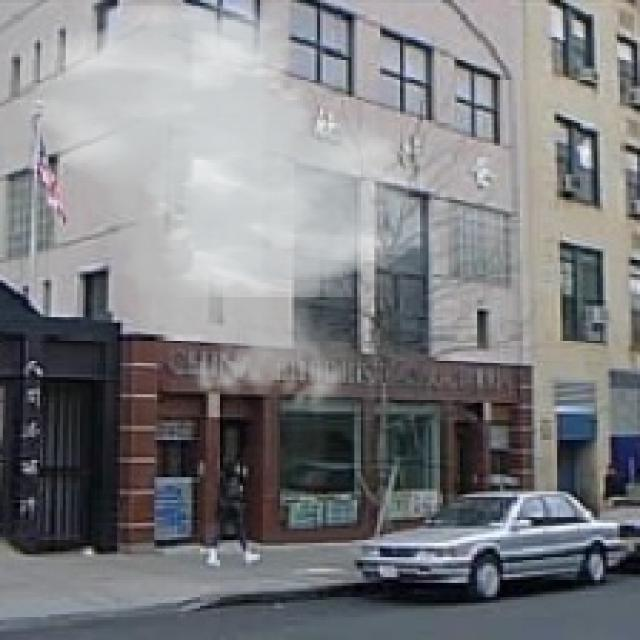Smoke: (19, 6, 434, 420)
